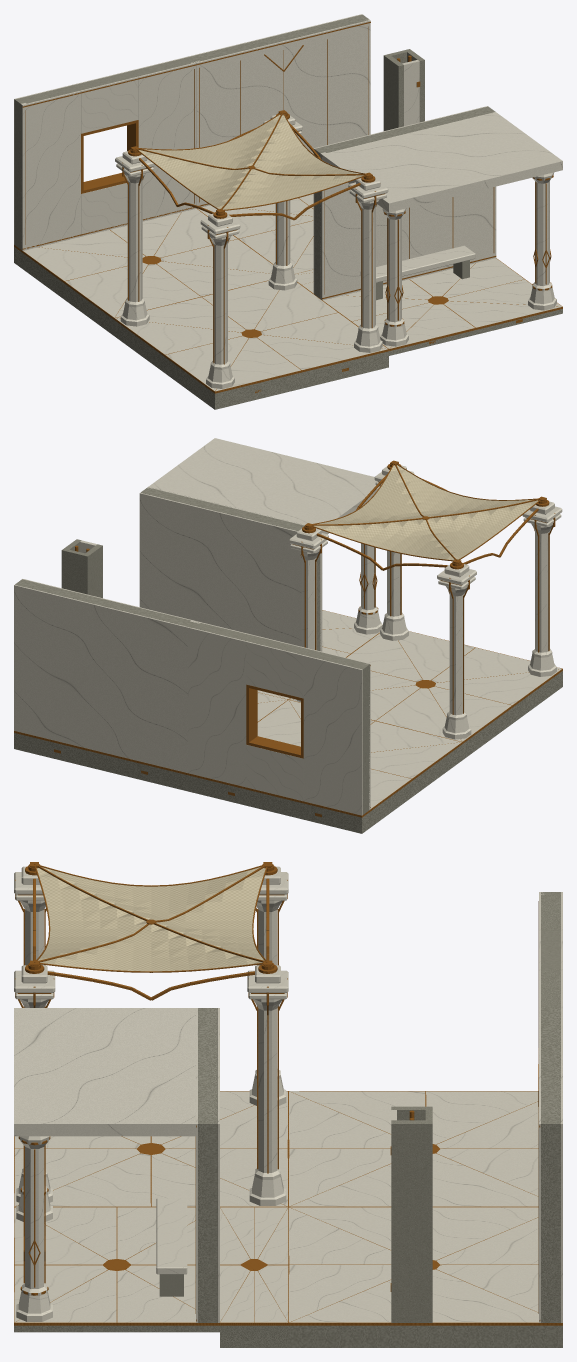
Rendered from assembly.glb.
3 renders of one model, top to bottom at view 1: azimuth 30°, elevation 25°; view 2: azimuth 150°, elevation 25°; view 3: azimuth 270°, elevation 25°, orthographic. The views are drawn at different scales.
Visible parts, largest first — view 1: Replaceable marble facing panel.009, Portico stone shade lintel, Replaceable marble facing panel.011, Shallow scalloped four-point tension textile, Replaceable marble facing panel, Replaceable marble facing panel.002, Stone floor substrate, Layered octagonal pier shaft and spreading neck.001, Layered octagonal pier shaft and spreading neck, Replaceable marble facing panel.006, Layered octagonal pier shaft and spreading neck.002, Marble pier stepped octagonal facing.001 (+41 smaller); view 2: Replaceable marble facing panel.008, Replaceable marble facing panel.010, Portico stone shade lintel, Shallow scalloped four-point tension textile, Replaceable marble facing panel.001, Replaceable marble facing panel.003, Stone floor substrate.001, Stone floor substrate.002, Replaceable marble facing panel.007, Layered octagonal pier shaft and spreading neck.001, Replaceable marble facing panel.005, Layered octagonal pier shaft and spreading neck (+28 smaller); view 3: Portico stone shade lintel, Shallow scalloped four-point tension textile, Utility chase stone side.001, Stone floor substrate.002, Bearing masonry wall segment.004, Bearing masonry wall segment.005, Layered octagonal pier shaft and spreading neck.003, Marble pier stepped octagonal facing.001, Replaceable flush radial marble floor sector.023, Replaceable flush radial marble floor sector.015, Replaceable flush radial marble floor sector.022, Replaceable flush radial marble floor sector.014 (+54 smaller).
Boxes of the visible parts, left/top/right/bottom form: Replaceable marble facing panel.009: left=196, top=20, right=370, bottom=207; Portico stone shade lintel: left=322, top=112, right=562, bottom=212; Replaceable marble facing panel.011: left=321, top=112, right=496, bottom=300; Shallow scalloped four-point tension textile: left=139, top=114, right=363, bottom=209; Replaceable marble facing panel: left=22, top=90, right=80, bottom=250; Replaceable marble facing panel.002: left=138, top=63, right=196, bottom=221; Stone floor substrate: left=114, top=320, right=388, bottom=409; Layered octagonal pier shaft and spreading neck.001: left=120, top=173, right=149, bottom=326; Layered octagonal pier shaft and spreading neck: left=206, top=235, right=234, bottom=388; Replaceable marble facing panel.006: left=81, top=76, right=138, bottom=133; Layered octagonal pier shaft and spreading neck.002: left=354, top=199, right=382, bottom=352; Marble pier stepped octagonal facing.001: left=528, top=158, right=556, bottom=310; Replaceable marble facing panel.008: left=14, top=584, right=188, bottom=772; Replaceable marble facing panel.010: left=139, top=492, right=301, bottom=646; Portico stone shade lintel: left=148, top=438, right=379, bottom=534; Shallow scalloped four-point tension textile: left=314, top=465, right=537, bottom=560; Replaceable marble facing panel.001: left=303, top=655, right=362, bottom=815; Replaceable marble facing panel.003: left=188, top=627, right=246, bottom=787; Stone floor substrate.001: left=188, top=744, right=462, bottom=833; Stone floor substrate.002: left=14, top=733, right=187, bottom=791; Replaceable marble facing panel.007: left=246, top=641, right=303, bottom=698; Layered octagonal pier shaft and spreading neck.001: left=442, top=586, right=471, bottom=739; Replaceable marble facing panel.005: left=246, top=745, right=303, bottom=801; Layered octagonal pier shaft and spreading neck: left=528, top=523, right=556, bottom=676; Portico stone shade lintel: left=14, top=1008, right=195, bottom=1136; Shallow scalloped four-point tension textile: left=36, top=867, right=265, bottom=971; Utility chase stone side.001: left=391, top=1120, right=432, bottom=1322; Stone floor substrate.002: left=288, top=1325, right=562, bottom=1347; Bearing masonry wall segment.004: left=541, top=1008, right=560, bottom=1322; Bearing masonry wall segment.005: left=198, top=1008, right=217, bottom=1322; Layered octagonal pier shaft and spreading neck.003: left=249, top=999, right=286, bottom=1205; Marble pier stepped octagonal facing.001: left=16, top=1136, right=52, bottom=1321; Replaceable flush radial marble floor sector.023: left=289, top=1207, right=391, bottom=1264; Replaceable flush radial marble floor sector.015: left=289, top=1091, right=391, bottom=1148; Replaceable flush radial marble floor sector.022: left=289, top=1265, right=391, bottom=1322; Replaceable flush radial marble floor sector.014: left=289, top=1149, right=391, bottom=1206.
Size of the model in its own units: 8 by 4.2 by 8.
Materials: 29 (29 with a texture image).
